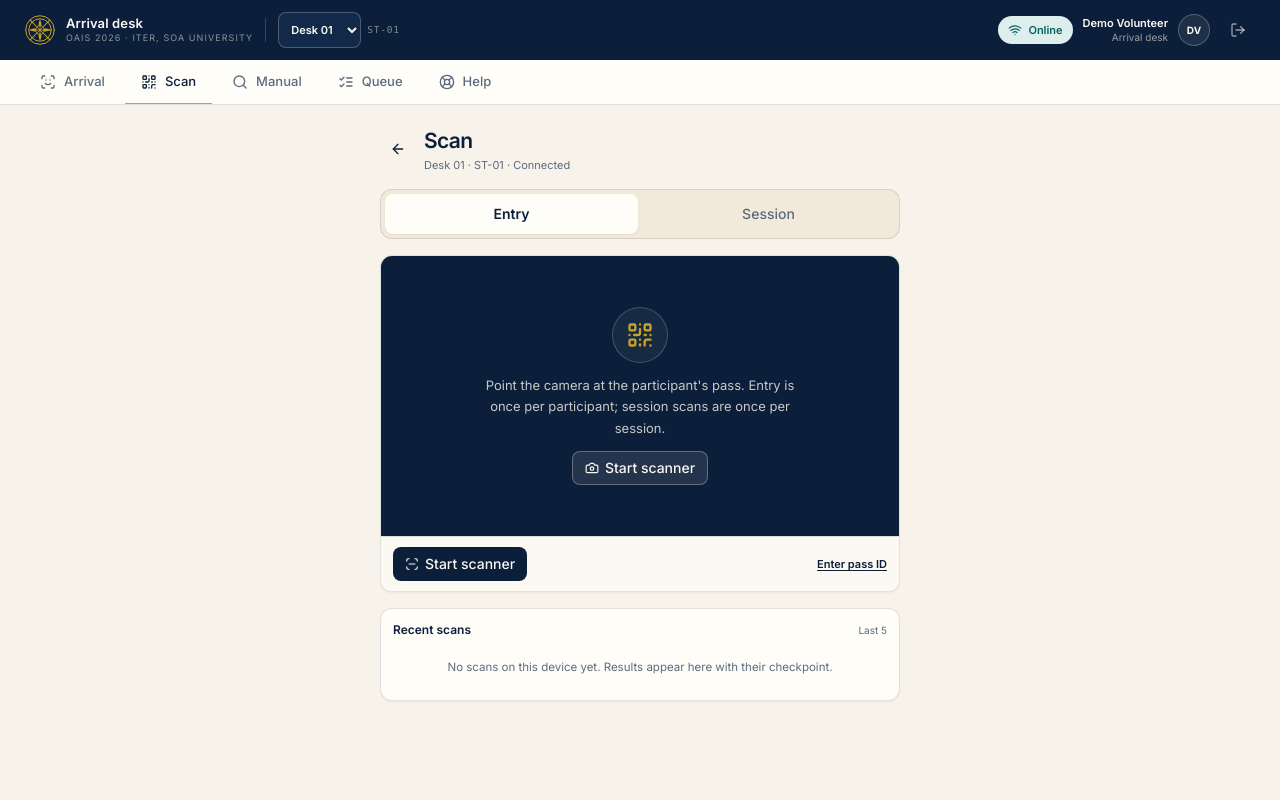
QR scanner (§7.6) › rejects unsigned QR JSON before any request or attendance write
Click the 1st button "Start scanner": click(640, 468) [572,451,708,485]
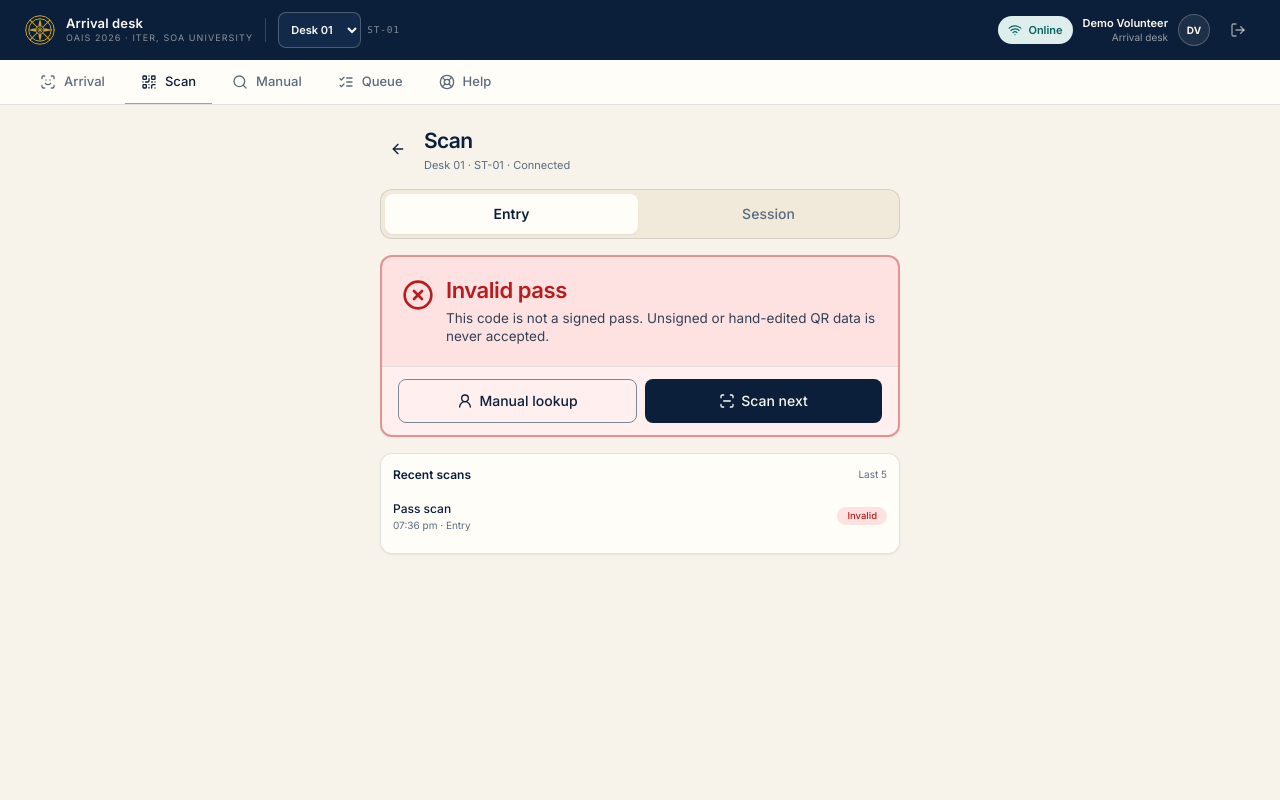
Expected: the text "Invalid pass" is shown, [446,277,567,303]
Expected: the text "not a signed pass" is shown, [446,310,875,344]
